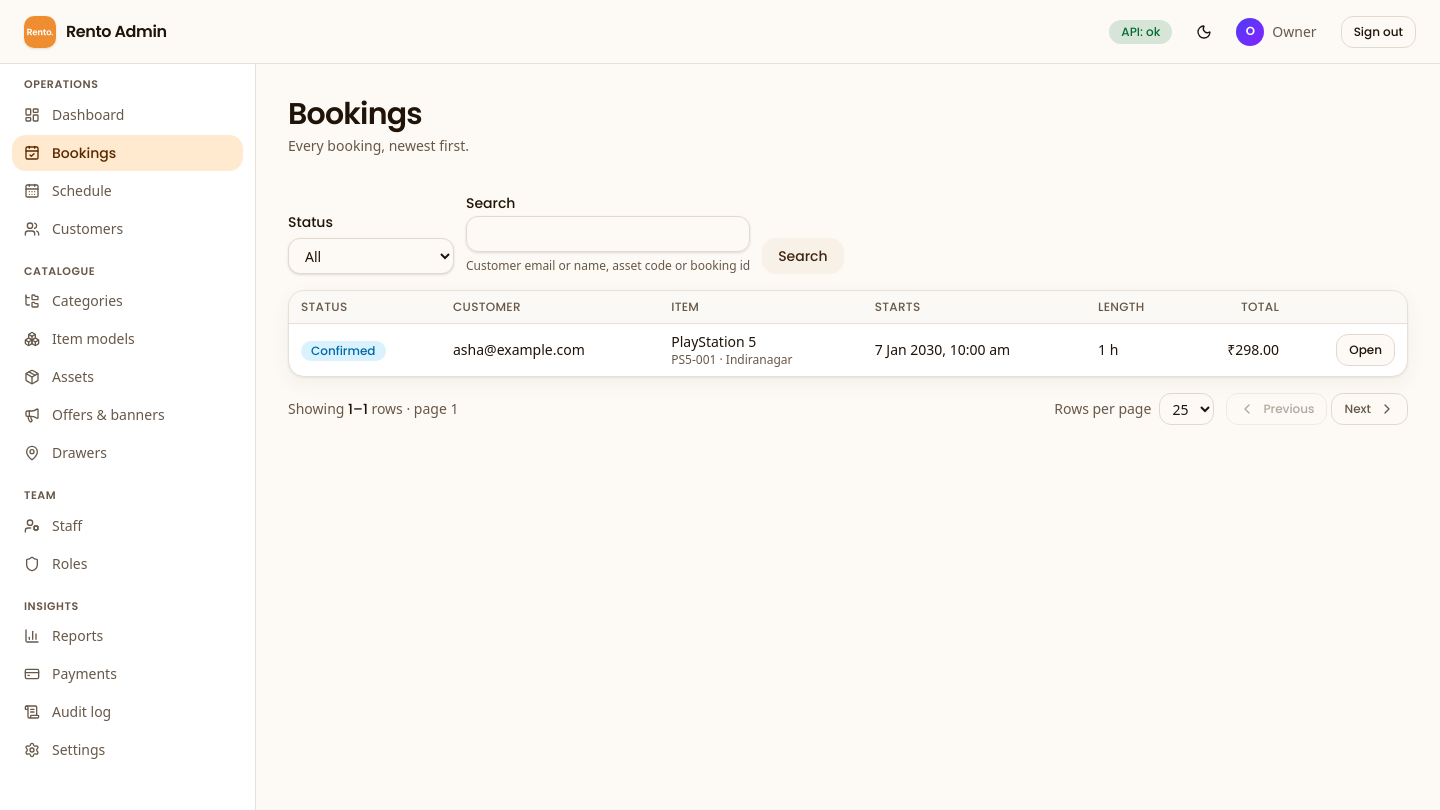
Test: bookings list › B-03 "Next page" asks for the next page with the cursor
Click the button with aria-label "Next page" at (1370, 409), box [1332,393,1408,425]
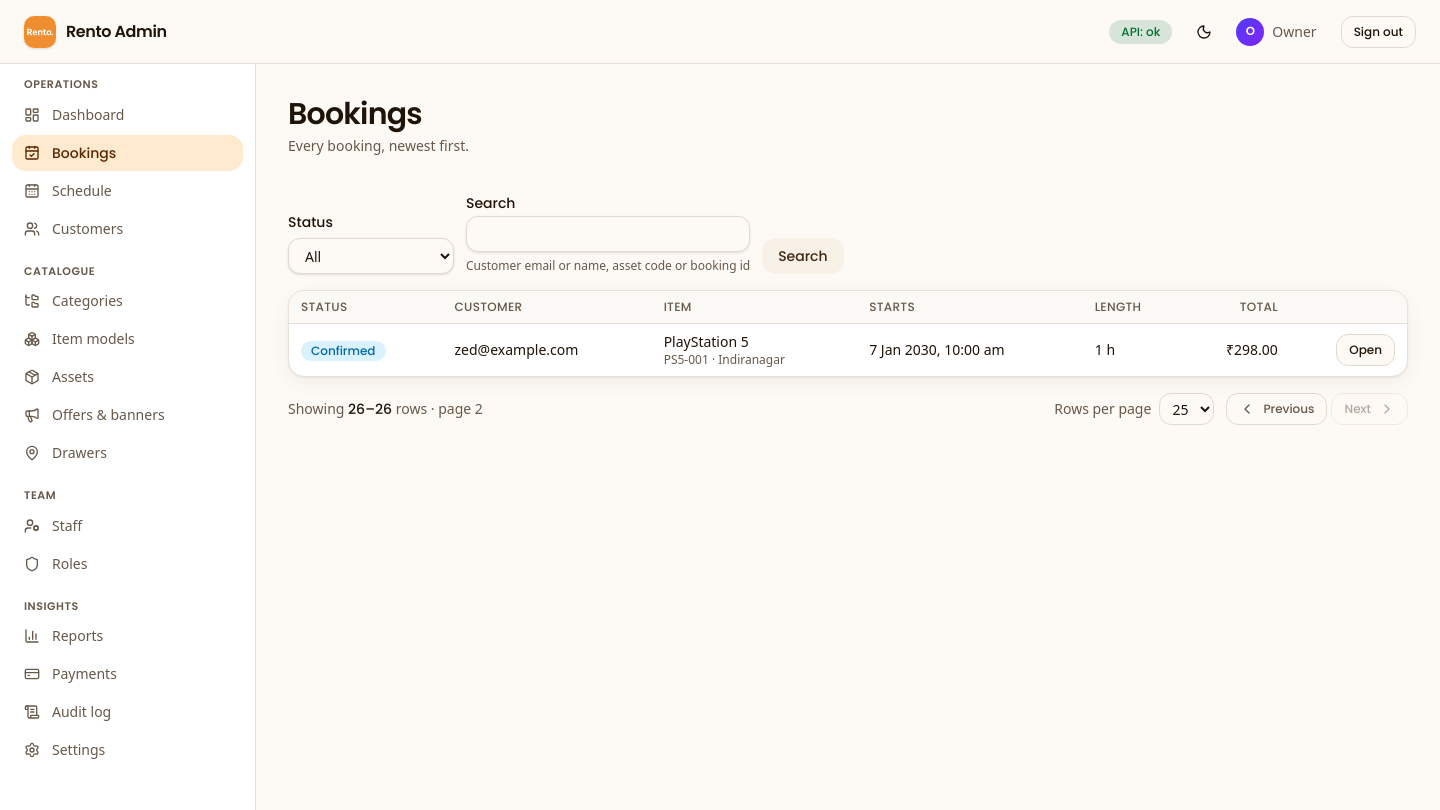
Expected: the text "zed@example.com" is shown, [442,324,652,376]
Expected: the text "asha@example.com" is gone
Expected: the button with aria-label "Next page" is disabled, [1332,393,1408,425]
Click the button with aria-label "Previous page" at (1277, 409), box [1226,393,1328,425]
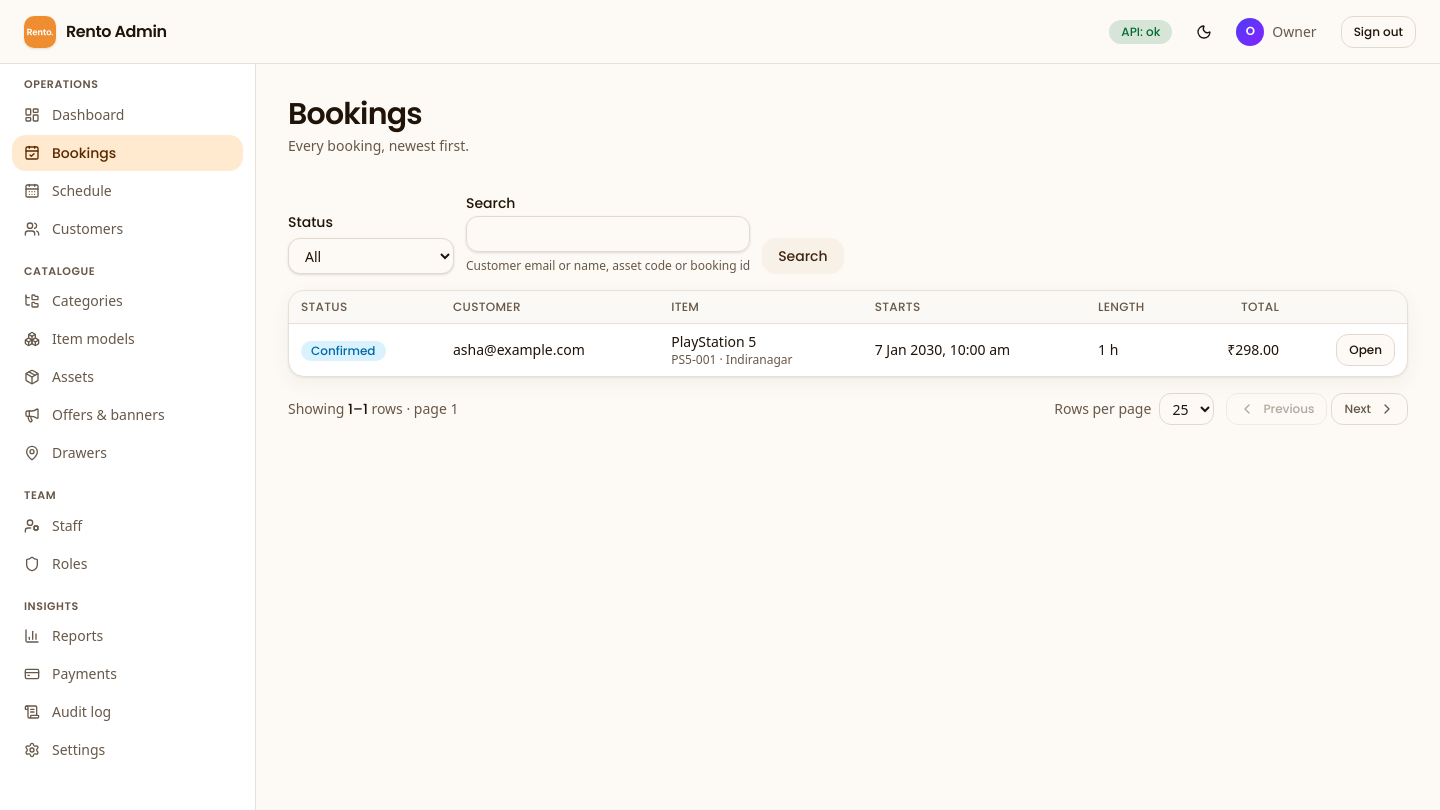
Expected: the text "asha@example.com" is shown, [441,324,659,376]
Expected: the button with aria-label "Previous page" is disabled, [1226,393,1328,425]
